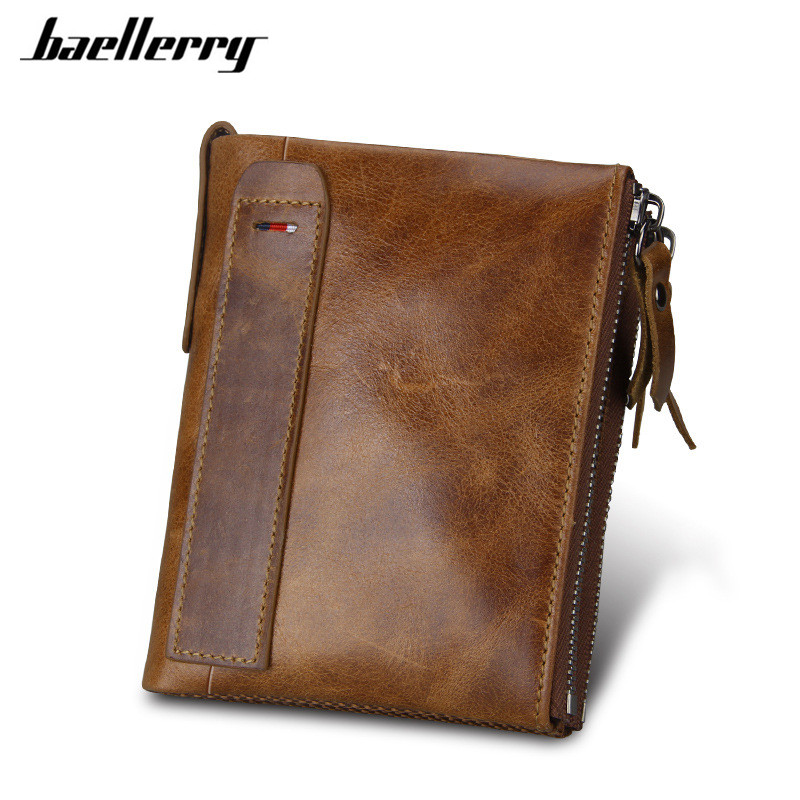monedero: (138, 117, 657, 742)
